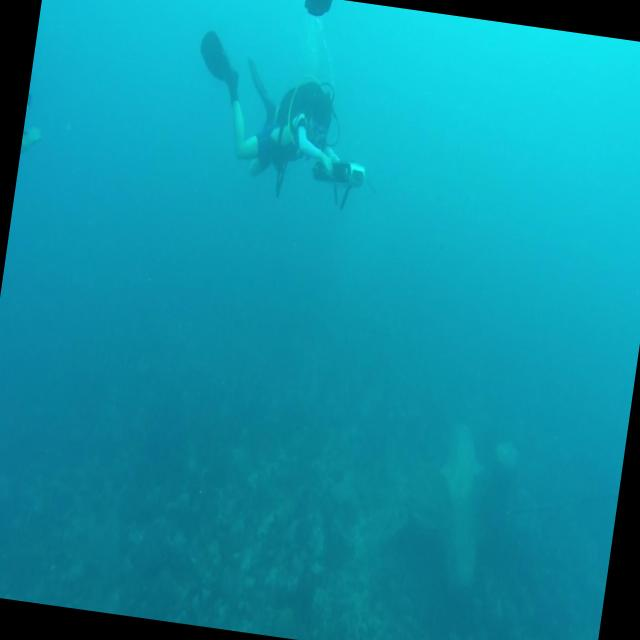human: (180, 27, 382, 212)
